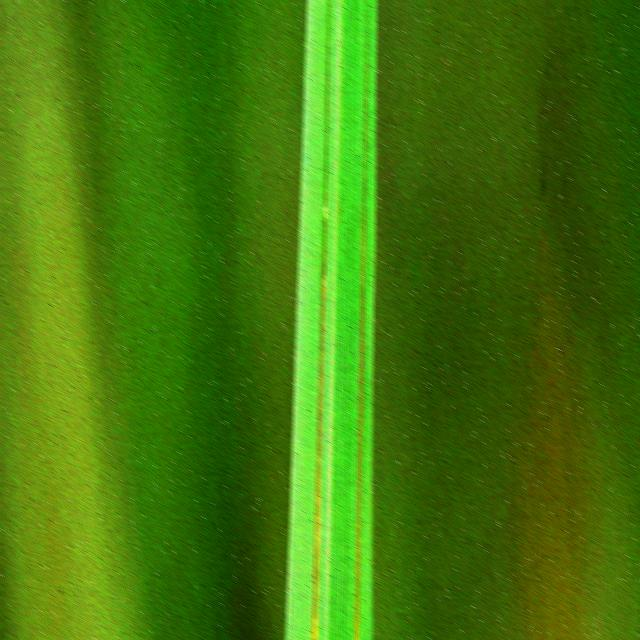BLS: (312, 41, 329, 640), (353, 47, 368, 640), (288, 489, 294, 640)
